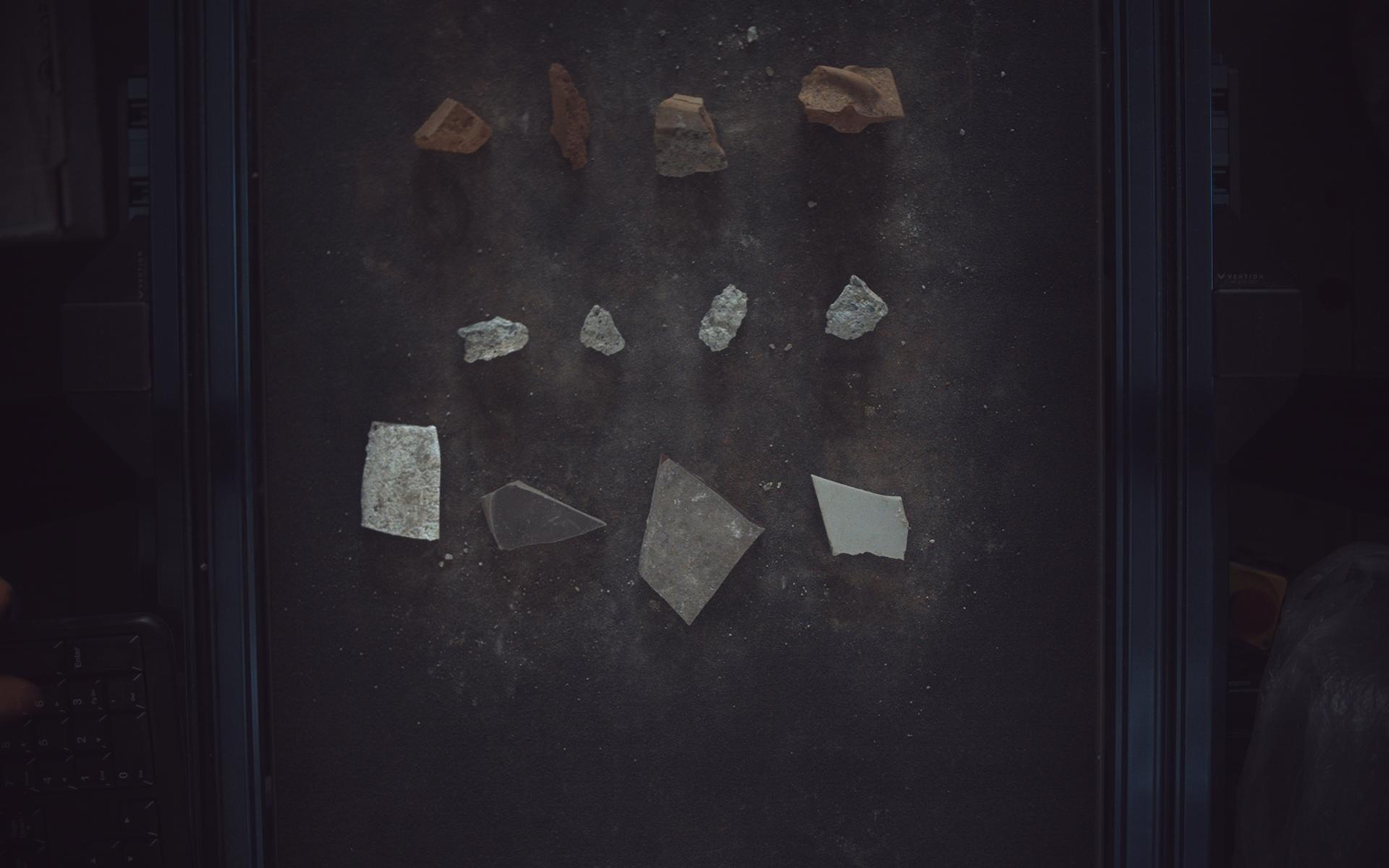brick: (800, 64, 906, 132), (655, 92, 729, 176), (549, 61, 590, 169), (415, 97, 491, 153)
concrete: (827, 275, 890, 339), (458, 316, 529, 363), (700, 284, 748, 352), (581, 305, 625, 355)
tile: (640, 456, 765, 625), (361, 422, 441, 541), (482, 481, 607, 550), (812, 475, 910, 560)
